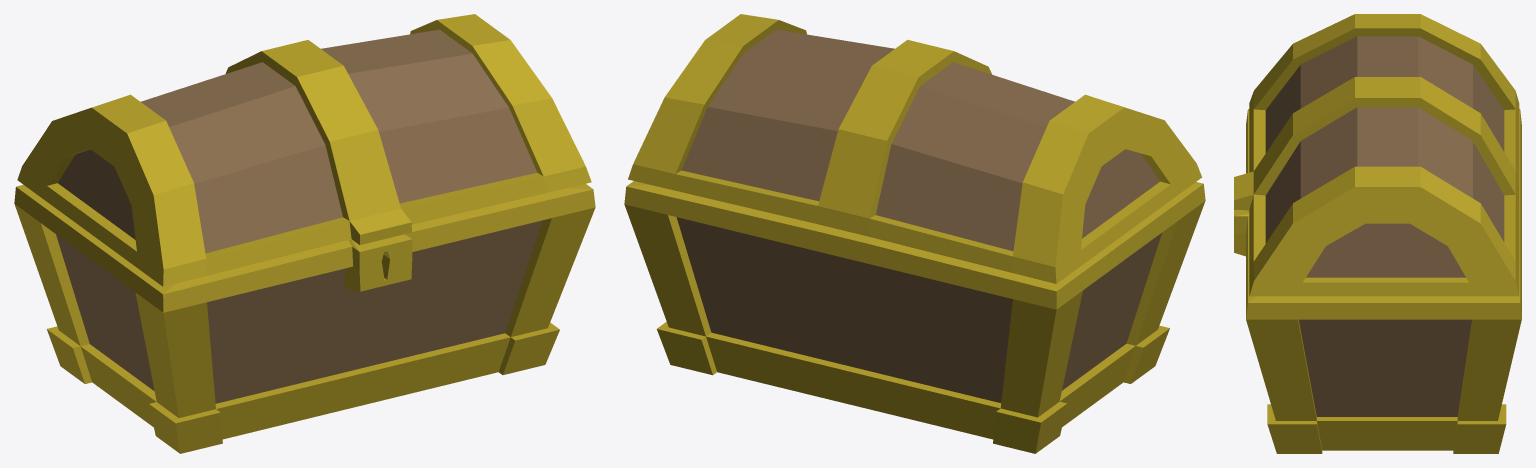
File: coffre.fbx
3 views of the same model, side by side, from view 1: azimuth 30°, elevation 25°; view 2: azimuth 150°, elevation 25°; view 3: azimuth 270°, elevation 25° (orthographic). The views are drawn at different scales.
Visible parts, largest first — view 1: top, bottom; view 2: top, bottom; view 3: top, bottom.
Part boxes in pixels (x1,y1,x2,y2): top: (17, 14, 591, 286); bottom: (14, 184, 595, 453); top: (628, 14, 1202, 283); bottom: (624, 181, 1205, 453); top: (1234, 14, 1519, 296); bottom: (1234, 108, 1521, 453).
Bounding box in the file's own units: 102 × 69.04 × 63.36.
